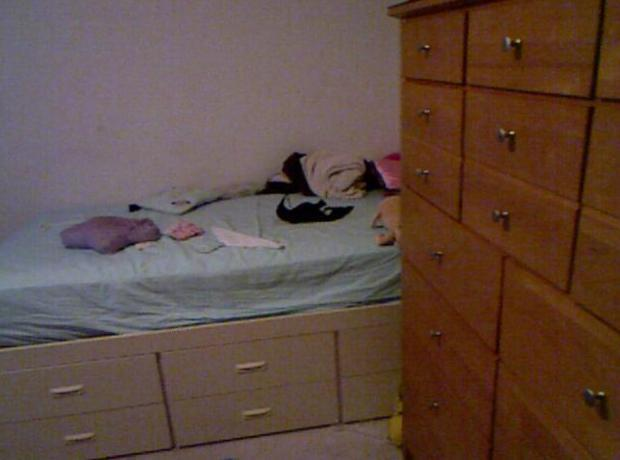Armario: (402, 7, 616, 448)
